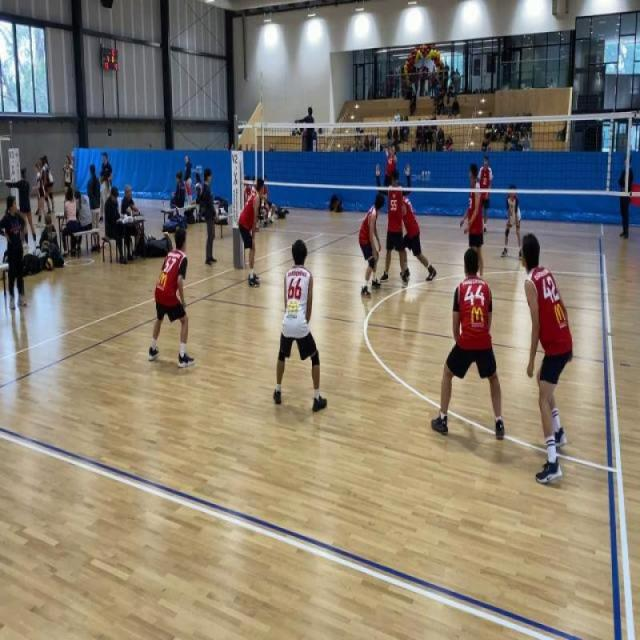volleyball: (46, 257, 54, 271), (163, 231, 170, 238), (147, 233, 154, 240), (387, 117, 392, 123)
